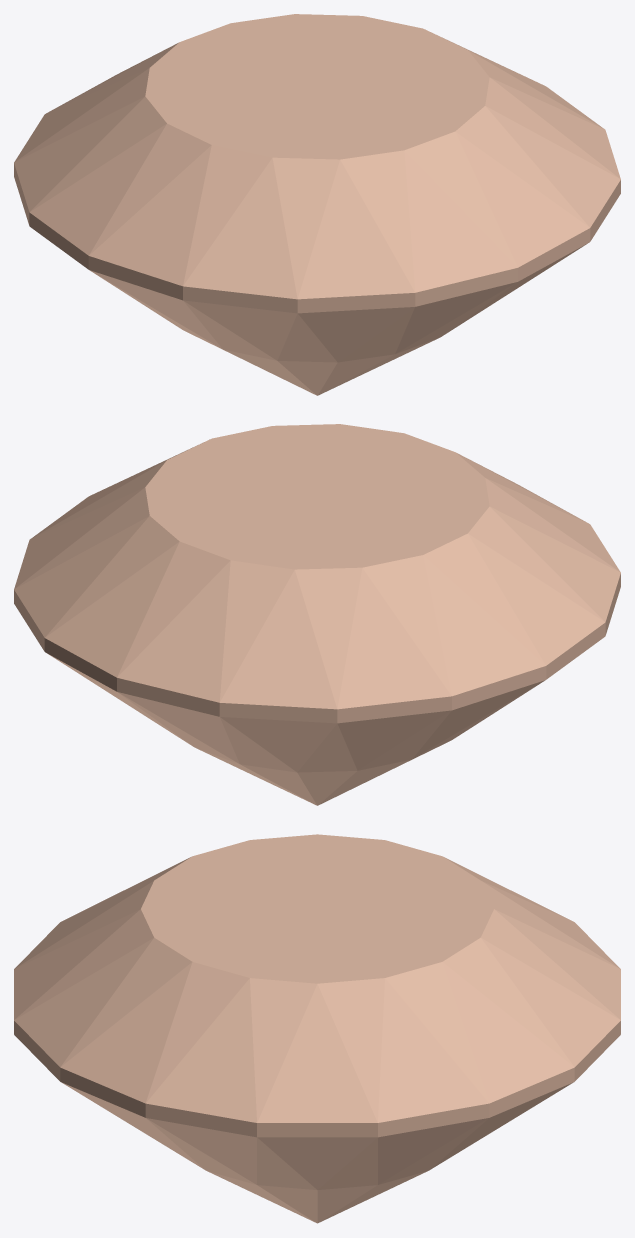
The model's file is sphalerite.glb.
3 renders of one model, top to bottom at view 1: azimuth 30°, elevation 25°; view 2: azimuth 150°, elevation 25°; view 3: azimuth 270°, elevation 25°, orthographic.
Visible parts, largest first — view 1: sphalerite; view 2: sphalerite; view 3: sphalerite.
Part boxes in pixels (x1,y1,x2,y2): sphalerite: (14,14,620,395); sphalerite: (14,424,620,805); sphalerite: (14,834,620,1223).
Bounding box in the file's own units: 0.25 × 0.1429 × 0.25.
